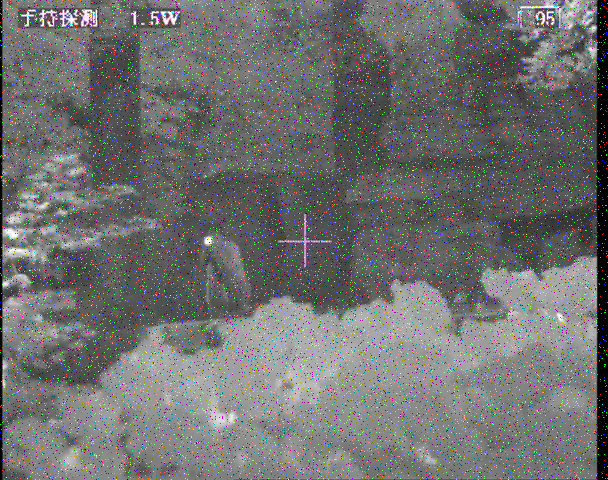my: (202, 235, 214, 248)
